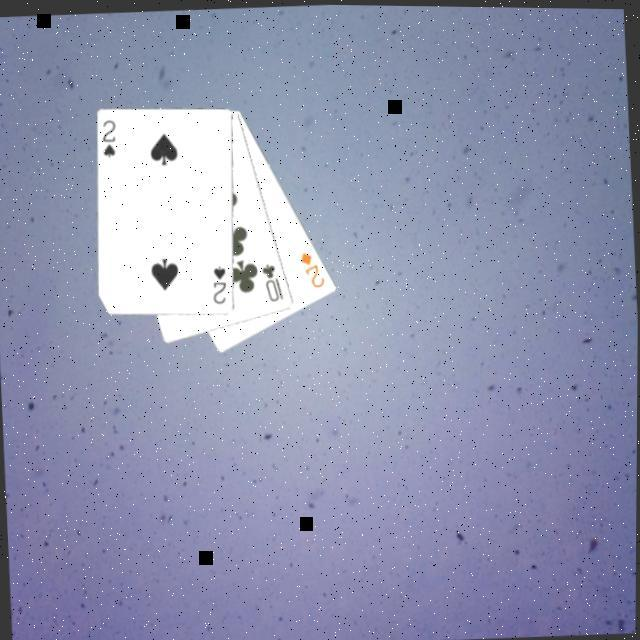10C: (260, 261, 288, 306)
2D: (298, 247, 329, 290)
2S: (210, 262, 232, 307), (99, 117, 121, 162)
